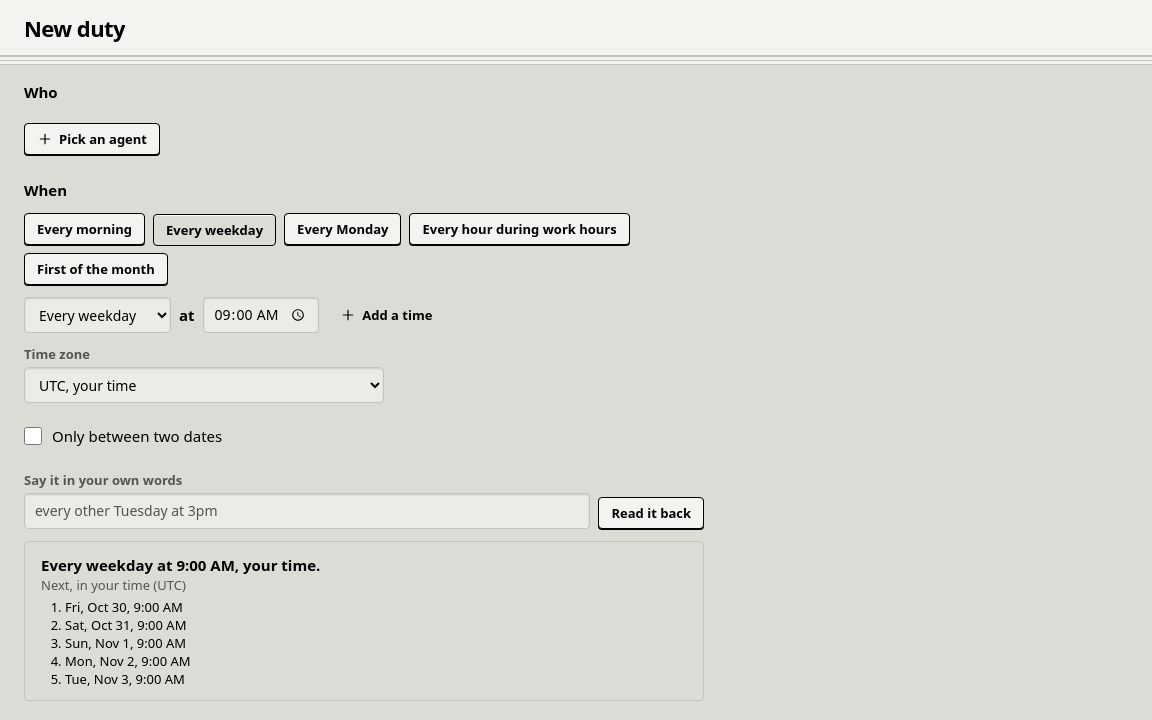
Scenario: New duty › lists the agents of the picker of Who with no header, because they make one group
This screenshot has width=1152, height=720.
Click the button "Pick an agent" at (92, 139), box [24,123,160,155]
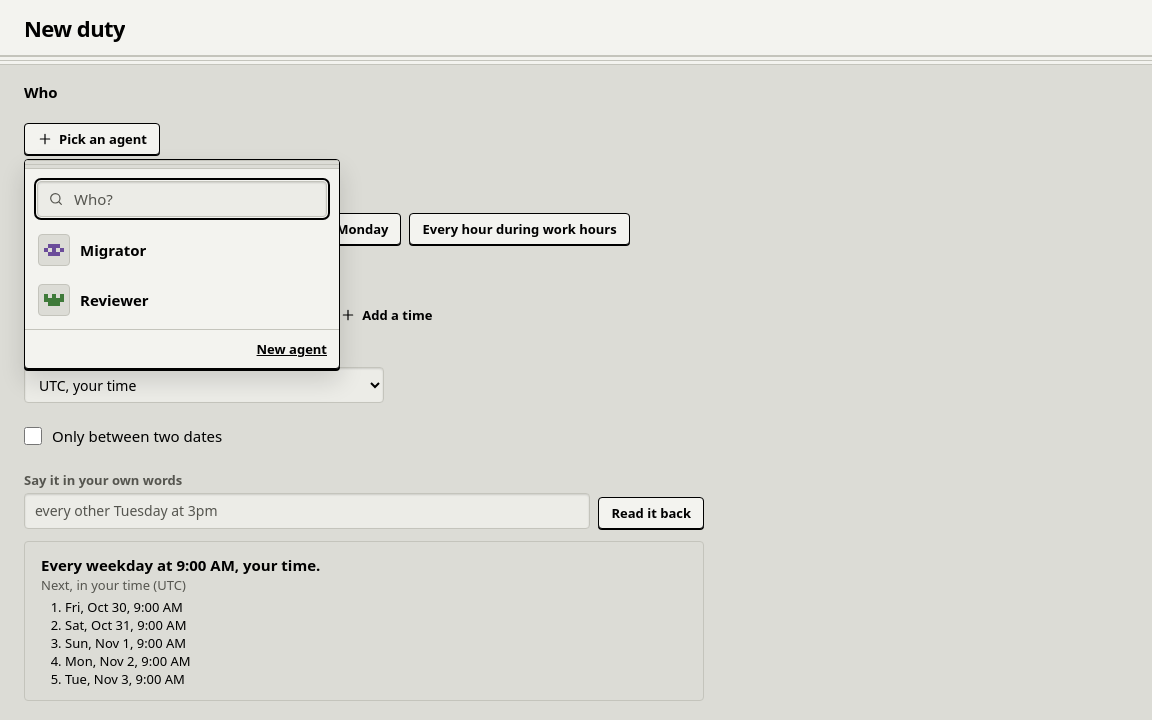
Result: the button "Migrator" is shown at [29,225,335,275]
